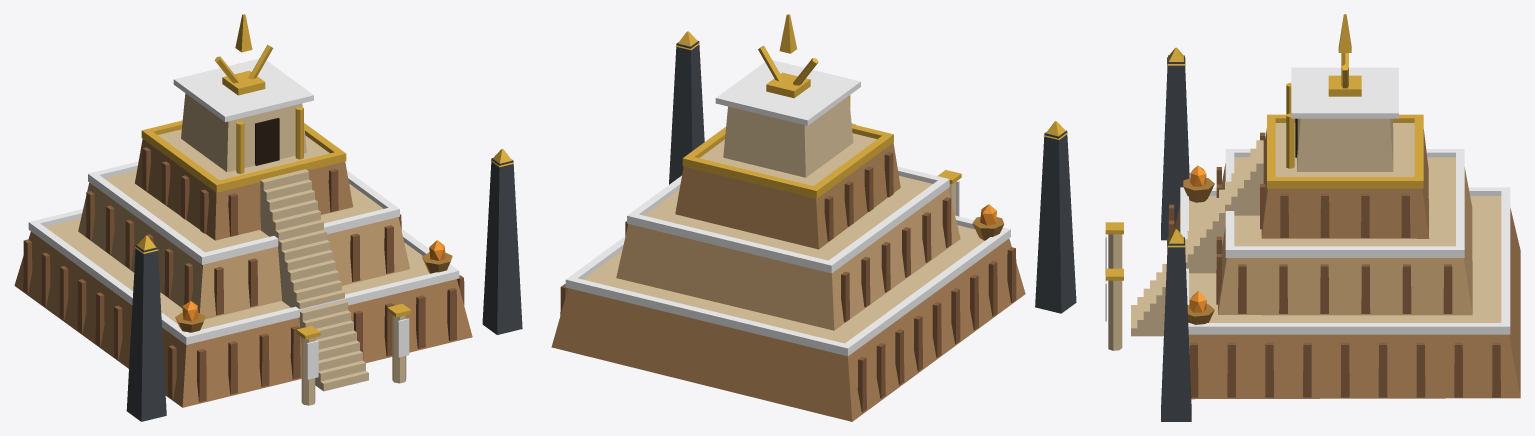
Rendered from temple_iron.glb.
3 views of the same model, side by side, from view 1: azimuth 30°, elevation 25°; view 2: azimuth 150°, elevation 25°; view 3: azimuth 270°, elevation 25° (orthographic). The views are drawn at different scales.
Visible parts, largest first — view 1: part, part.032, part.054, part.111, part.109, part.091, part.092, part.027, part.049, part.028, part.029, part.051 (+38 smaller); view 2: part, part.032, part.054, part.091, part.027, part.109, part.092, part.049, part.030, part.111, part.029, part.052 (+12 smaller); view 3: part, part.032, part.054, part.027, part.091, part.049, part.092, part.111, part.031, part.109, part.053, part.065 (+40 smaller).
Boxes of the visible parts, bbox=[...] form: part: bbox=[14, 231, 472, 407]; part.032: bbox=[78, 182, 409, 319]; part.054: bbox=[135, 139, 352, 240]; part.111: bbox=[482, 158, 522, 334]; part.109: bbox=[126, 245, 166, 421]; part.091: bbox=[181, 93, 306, 172]; part.092: bbox=[173, 58, 313, 122]; part.027: bbox=[45, 218, 429, 329]; part.049: bbox=[104, 170, 383, 252]; part.028: bbox=[182, 268, 459, 344]; part.029: bbox=[28, 221, 193, 344]; part.051: bbox=[88, 172, 209, 264]; part: bbox=[551, 238, 1025, 421]; part.032: bbox=[616, 188, 960, 330]; part.054: bbox=[675, 143, 900, 249]; part.091: bbox=[723, 96, 853, 177]; part.027: bbox=[582, 225, 984, 343]; part.109: bbox=[1035, 130, 1076, 313]; part.092: bbox=[715, 60, 860, 125]; part.049: bbox=[644, 176, 932, 260]; part.030: bbox=[565, 278, 852, 355]; part.111: bbox=[669, 41, 704, 184]; part.029: bbox=[840, 229, 1010, 356]; part.052: bbox=[627, 212, 835, 272]; part: bbox=[1174, 204, 1520, 399]; part.032: bbox=[1218, 163, 1472, 315]; part.054: bbox=[1261, 128, 1429, 238]; part.027: bbox=[1189, 196, 1501, 322]; part.091: bbox=[1297, 118, 1393, 171]; part.049: bbox=[1234, 157, 1455, 246]; part.092: bbox=[1291, 67, 1398, 118]; part.111: bbox=[1161, 237, 1191, 421]; part.031: bbox=[1188, 323, 1510, 334]; part.109: bbox=[1161, 55, 1189, 240]; part.053: bbox=[1225, 246, 1464, 257]; part.065: bbox=[1275, 123, 1414, 176].
Bounding box in the file's own units: 10.5 × 7.81 × 9.47.
